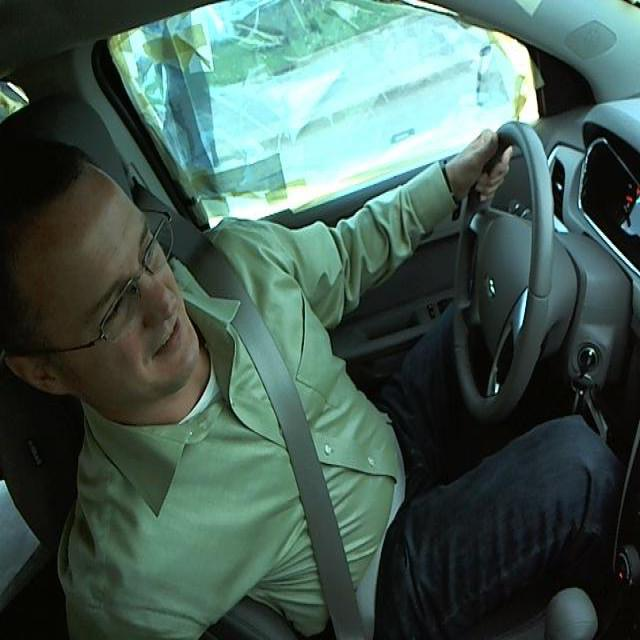seatbelt: (189, 273, 390, 632)
